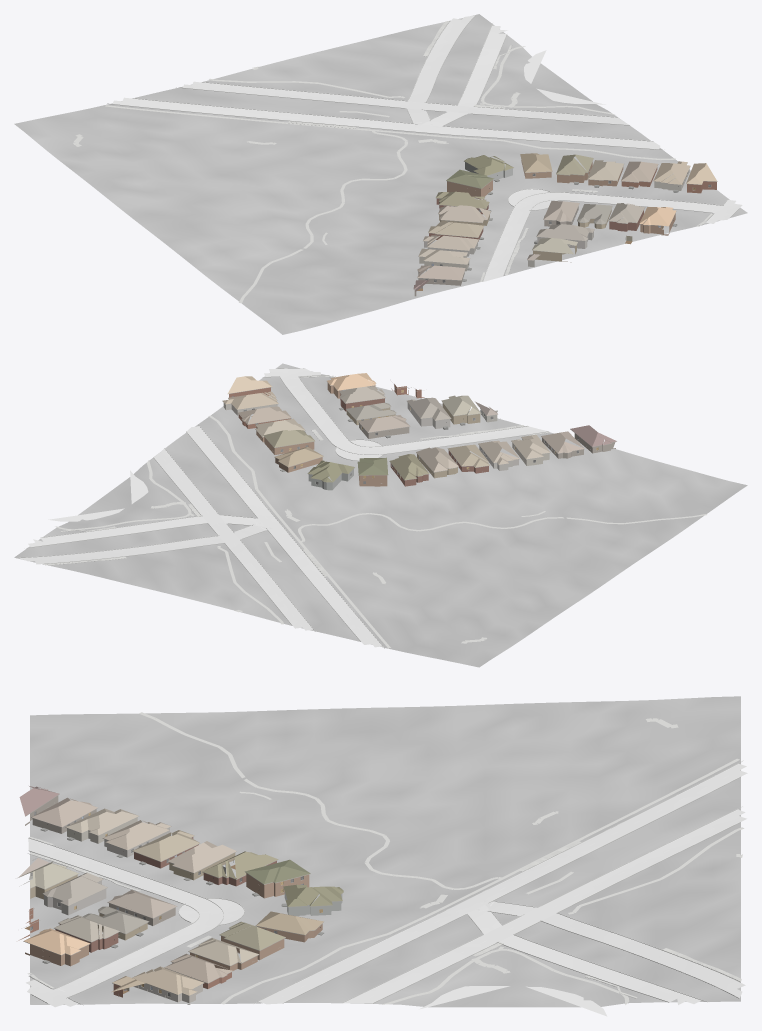
The picture shows the model from 3 angles, top to bottom: view 1: azimuth 30°, elevation 25°; view 2: azimuth 150°, elevation 25°; view 3: azimuth 270°, elevation 25°; orthographic projection. The views are drawn at different scales.
Parts seen in each view (by area): view 1: ground, roof, concrete, asphalt, walk, wall, curb, detail, wall_stucco, water; view 2: ground, roof, concrete, asphalt, walk, wall, curb, detail, wall_stucco, water, wall_stone; view 3: ground, roof, concrete, asphalt, walk, wall, curb, detail, wall_stucco, water, wall_stone, mark_w (+1 smaller).
Boxes of the visible parts, left/top/right/bottom form: ground: left=14, top=14, right=747, bottom=334; roof: left=413, top=153, right=717, bottom=291; concrete: left=407, top=15, right=742, bottom=281; asphalt: left=112, top=81, right=660, bottom=149; walk: left=73, top=20, right=712, bottom=303; wall: left=414, top=160, right=716, bottom=296; curb: left=107, top=15, right=739, bottom=281; detail: left=414, top=158, right=717, bottom=289; wall_stucco: left=419, top=162, right=689, bottom=271; water: left=524, top=50, right=605, bottom=104; ground: left=14, top=363, right=747, bottom=667; roof: left=223, top=373, right=616, bottom=482; concrete: left=19, top=368, right=547, bottom=564; asphalt: left=154, top=426, right=382, bottom=647; walk: left=44, top=375, right=706, bottom=648; wall: left=229, top=383, right=615, bottom=486; curb: left=19, top=368, right=548, bottom=648; detail: left=222, top=379, right=616, bottom=484; wall_stucco: left=223, top=403, right=549, bottom=490; water: left=48, top=470, right=148, bottom=521; wall_stone: left=407, top=403, right=518, bottom=470; ground: left=30, top=696, right=740, bottom=1007; roof: left=18, top=786, right=343, bottom=995; concrete: left=26, top=838, right=745, bottom=1007; asphalt: left=258, top=763, right=747, bottom=1004; walk: left=27, top=712, right=744, bottom=1004; wall: left=18, top=795, right=322, bottom=997; curb: left=28, top=760, right=743, bottom=1005; detail: left=19, top=790, right=343, bottom=999; wall_stucco: left=19, top=817, right=342, bottom=1004; water: left=419, top=986, right=607, bottom=1016; wall_stone: left=44, top=827, right=169, bottom=915; mark_w: left=57, top=764, right=738, bottom=1004.
Size of the model in its own units: 260 by 13.35 by 258.
